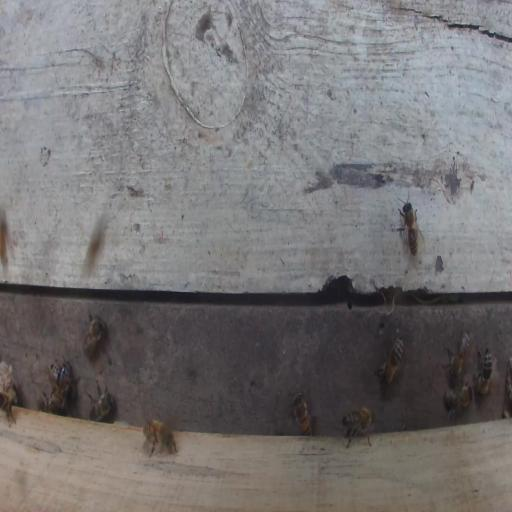nonpollenbee: (394, 198, 422, 257), (142, 416, 177, 458), (341, 405, 375, 448), (375, 337, 405, 385), (445, 330, 471, 378), (442, 383, 473, 422), (86, 378, 114, 421), (48, 362, 70, 416), (82, 311, 105, 359), (474, 343, 493, 396), (291, 391, 313, 436), (1, 384, 18, 427)
pollenbee: (50, 362, 78, 406)
